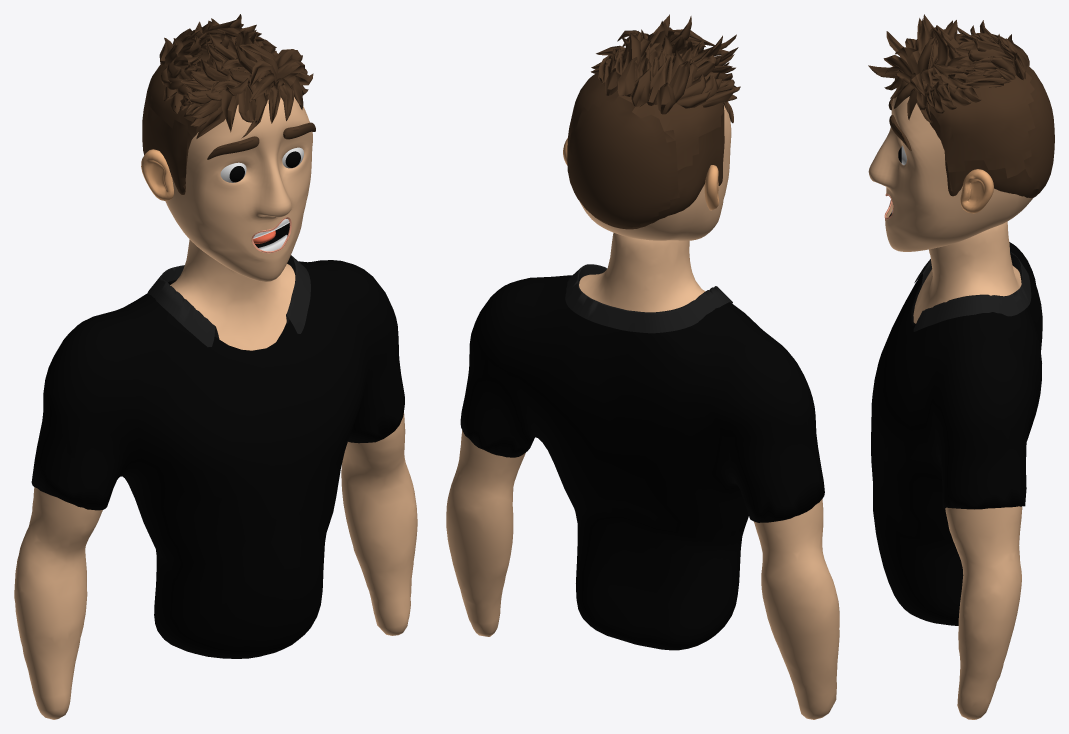
File: myCharacter2.glb
3 renders of one model, left to right at view 1: azimuth 30°, elevation 25°; view 2: azimuth 150°, elevation 25°; view 3: azimuth 270°, elevation 25°, orthographic. The views are drawn at different scales.
Visible parts, largest first — view 1: Kunas, Galva; view 2: Kunas, Galva; view 3: Kunas, Galva.
Boxes of the visible parts, <box> form: Kunas: <box>14,239,417,719</box>; Galva: <box>141,14,315,281</box>; Kunas: <box>446,232,839,719</box>; Galva: <box>563,14,740,240</box>; Kunas: <box>871,221,1042,719</box>; Galva: <box>868,14,1054,251</box>.
Size of the model in its own units: 0.4827 by 0.775 by 0.2125.
2 materials, 2 textured.
